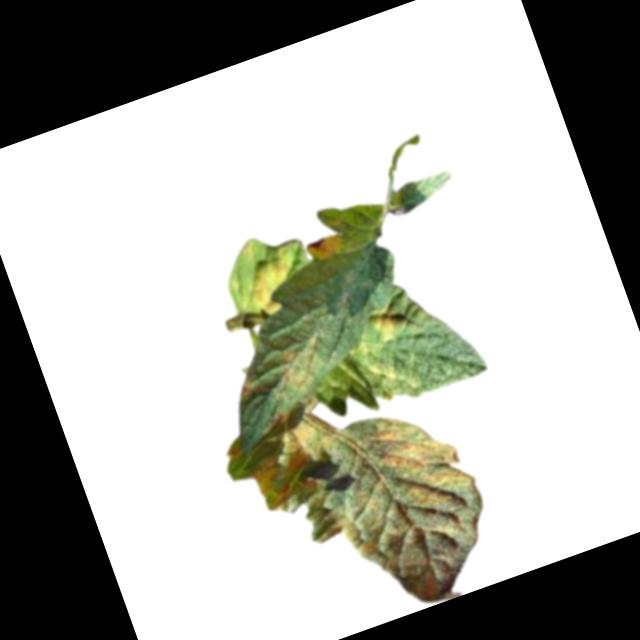Leaf_Mold: (242, 386, 511, 640), (265, 334, 330, 399), (239, 254, 303, 320), (361, 352, 408, 404), (367, 303, 408, 346), (304, 231, 345, 265), (231, 372, 264, 406)
